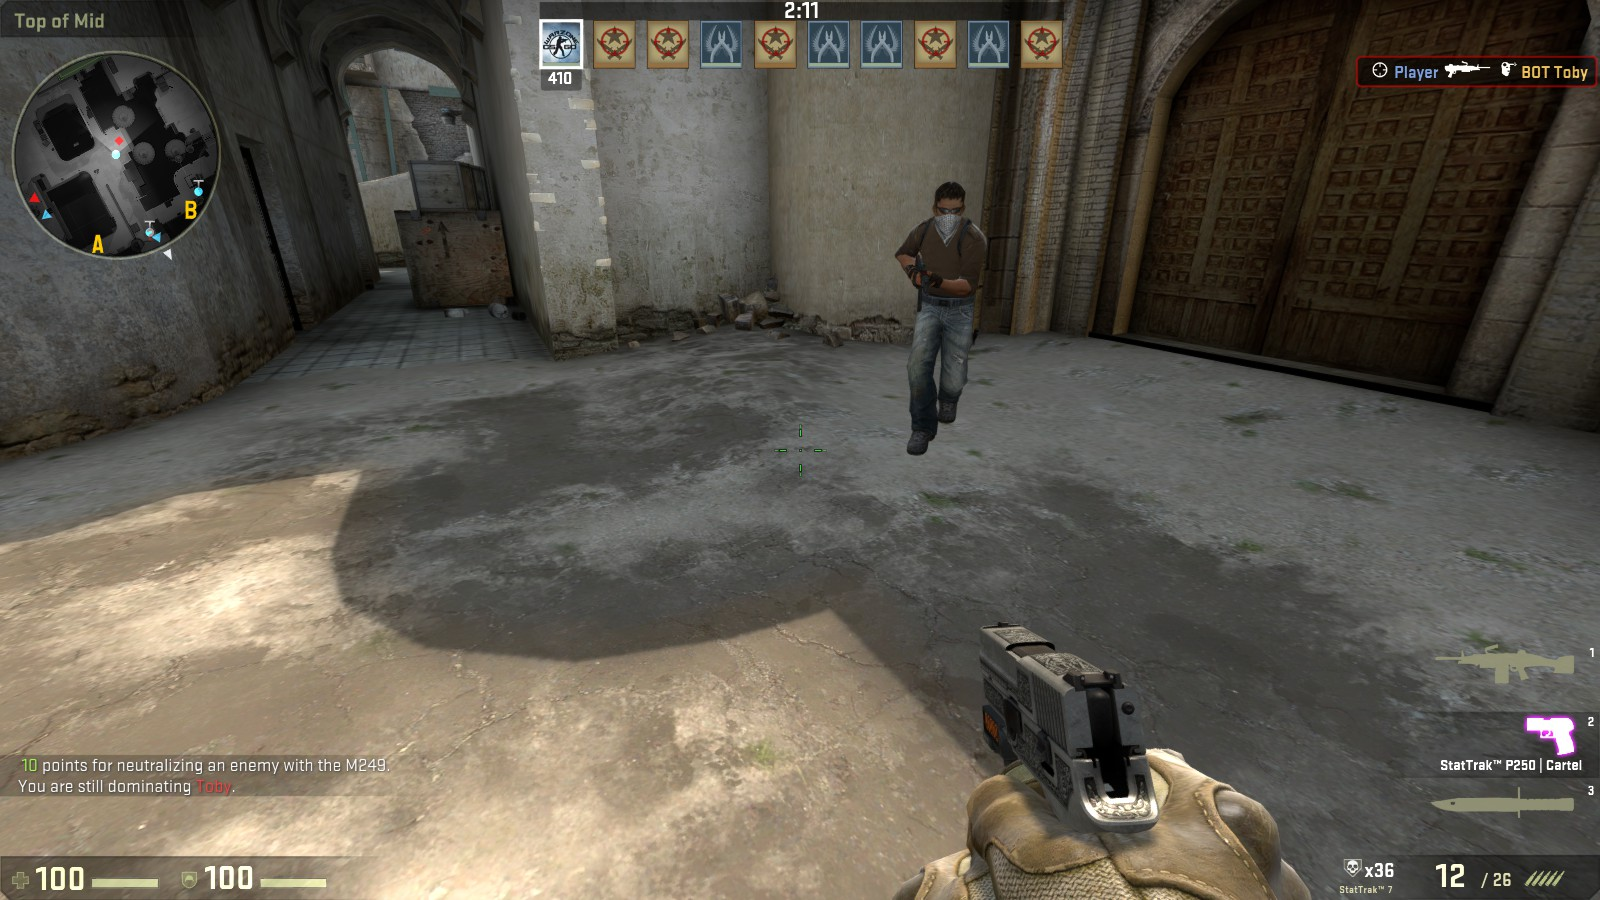t: (884, 181, 995, 449)
th: (929, 181, 974, 238)
